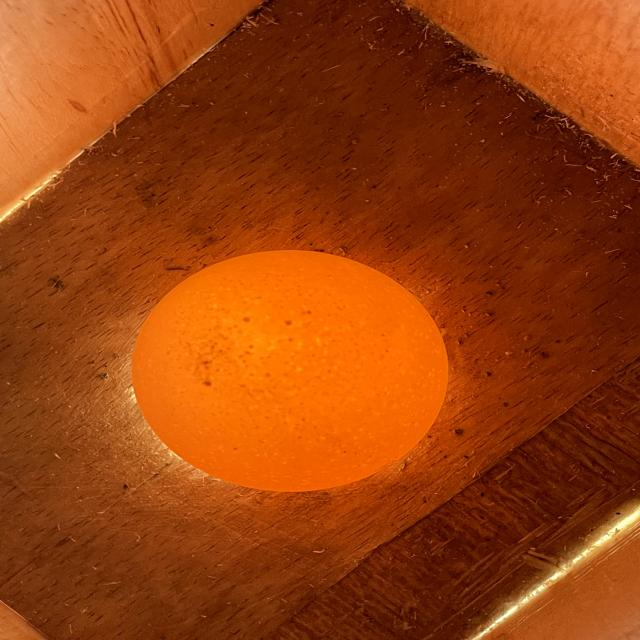infertile: (132, 250, 448, 491)
